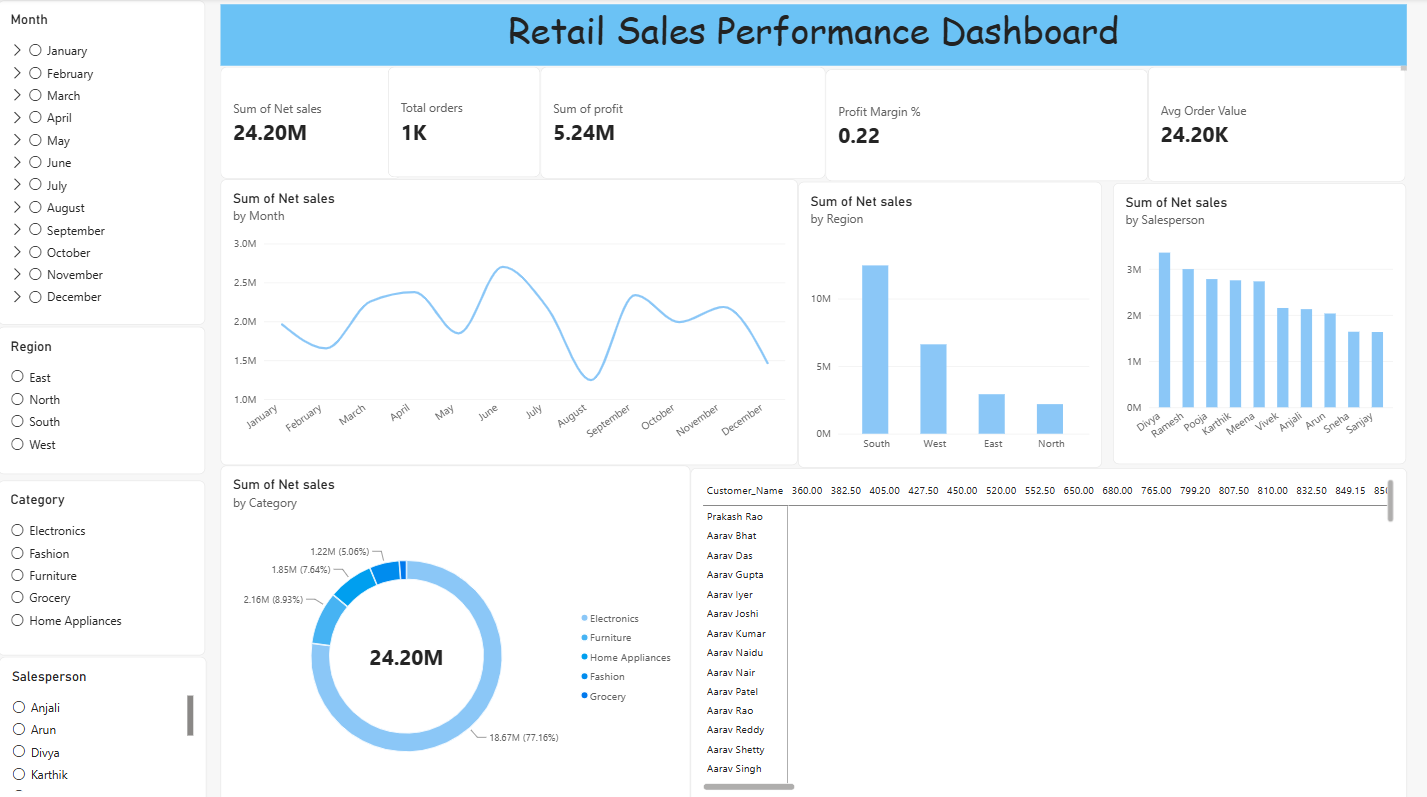

This screenshot's page, from the dashboard's own definition file:
{"tool":"powerbi","page":{"name":"Page 1","canvas":[1920,1080],"ordinal":0},"visuals":[{"type":"clusteredColumnChart","fields":{"Category":["Raw_Data.Region"],"Y":["Sum(Raw_Data.Net sales)"]},"box":[1072.4,247,407.5,382.8],"z":0},{"type":"lineChart","fields":{"Category":["Raw_Data.Order_Date.Variation.Date Hierarchy.Month"],"Y":["Sum(Raw_Data.Net sales)"]},"box":[298.5,242.9,773.9,382.8],"z":1000},{"type":"donutChart","fields":{"Category":["Raw_Data.Category"],"Y":["Sum(Raw_Data.Net sales)"]},"box":[298.5,625.7,629.8,452.8],"z":2000},{"type":"pivotTable","fields":{"Columns":["Raw_Data.Net sales"],"Rows":["Raw_Data.Customer_Name"]},"box":[927.9,629.8,959.7,448.9],"z":3000},{"type":"cardVisual","fields":{"Data":["Sum(Raw_Data.Net sales)"]},"box":[298.5,92.6,242.9,150.3],"z":4000},{"type":"cardVisual","fields":{"Data":["Sum(Raw_Data.profit)"]},"box":[726.6,92.6,382.8,150.3],"z":5000},{"type":"cardVisual","fields":{"Data":["Table.Profit Margin %"]},"box":[1109.4,94.7,432.2,150.3],"z":6000},{"type":"cardVisual","fields":{"Data":["Table.Avg Order Value"]},"box":[1541.7,92.6,345.8,154.4],"z":7000},{"type":"listSlicer","fields":{"Values":["Raw_Data.Category"]},"box":[0,647.1,277.9,234.6],"z":8000},{"type":"listSlicer","fields":{"Values":["Raw_Data.Order_Date.Variation.Date Hierarchy.Month","Raw_Data.Order_Date.Variation.Date Hierarchy.Day"]},"box":[0,3.5,277.9,434.3],"z":9000},{"type":"listSlicer","fields":{"Values":["Raw_Data.Region"]},"box":[0,441.3,277.9,197.6],"z":10000},{"type":"cardVisual","fields":{"Data":["Table.Total orders"]},"box":[523.3,92.4,204.1,148.3],"z":11000},{"type":"clusteredColumnChart","fields":{"Category":["Raw_Data.Salesperson"],"Y":["Sum(Raw_Data.Net sales)"]},"box":[1494.8,247.7,392.4,376.7],"z":12000},{"type":"listSlicer","fields":{"Values":["Raw_Data.Salesperson"]},"box":[1.7,882.6,277.3,197.1],"z":13000},{"type":"textbox","box":[298.1,3.3,1587.8,92.1],"z":13001},{"type":"textbox","title":"Retail Sales Performance Dashboard","box":[298.1,8.4,1589.5,88.8],"z":13002}]}

Visuals, with their boxes on the page's 1920x1080 design canvas (x1, y1, x2, y2). These are canvas units, not pixel positions in the 1427x797 screenshot, which may show the page scaled, cropped or inside an application window:
clusteredColumnChart - Raw_Data.Region x Sum(Raw_Data.Net sales): [1072, 247, 1480, 630]
lineChart - Raw_Data.Order_Date.Variation.Date Hierarchy.Month x Sum(Raw_Data.Net sales): [298, 243, 1072, 626]
donutChart - Raw_Data.Category x Sum(Raw_Data.Net sales): [298, 626, 928, 1078]
pivotTable - Raw_Data.Net sales x Raw_Data.Customer_Name: [928, 630, 1888, 1079]
cardVisual - Sum(Raw_Data.Net sales): [298, 93, 541, 243]
cardVisual - Sum(Raw_Data.profit): [727, 93, 1109, 243]
cardVisual - Table.Profit Margin %: [1109, 95, 1542, 245]
cardVisual - Table.Avg Order Value: [1542, 93, 1888, 247]
listSlicer - Raw_Data.Category: [0, 647, 278, 882]
listSlicer - Raw_Data.Order_Date.Variation.Date Hierarchy.Month x Raw_Data.Order_Date.Variation.Date Hierarchy.Day: [0, 4, 278, 438]
listSlicer - Raw_Data.Region: [0, 441, 278, 639]
cardVisual - Table.Total orders: [523, 92, 727, 241]
clusteredColumnChart - Raw_Data.Salesperson x Sum(Raw_Data.Net sales): [1495, 248, 1887, 624]
listSlicer - Raw_Data.Salesperson: [2, 883, 279, 1080]
textbox: [298, 3, 1886, 95]
"Retail Sales Performance Dashboard" textbox: [298, 8, 1888, 97]
